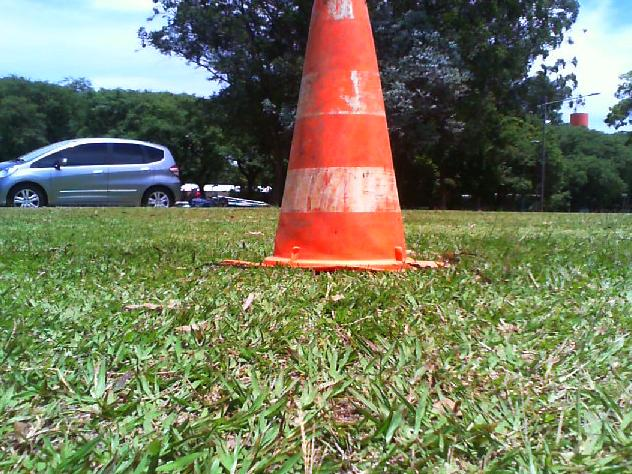0 cone: (263, 0, 418, 268)
